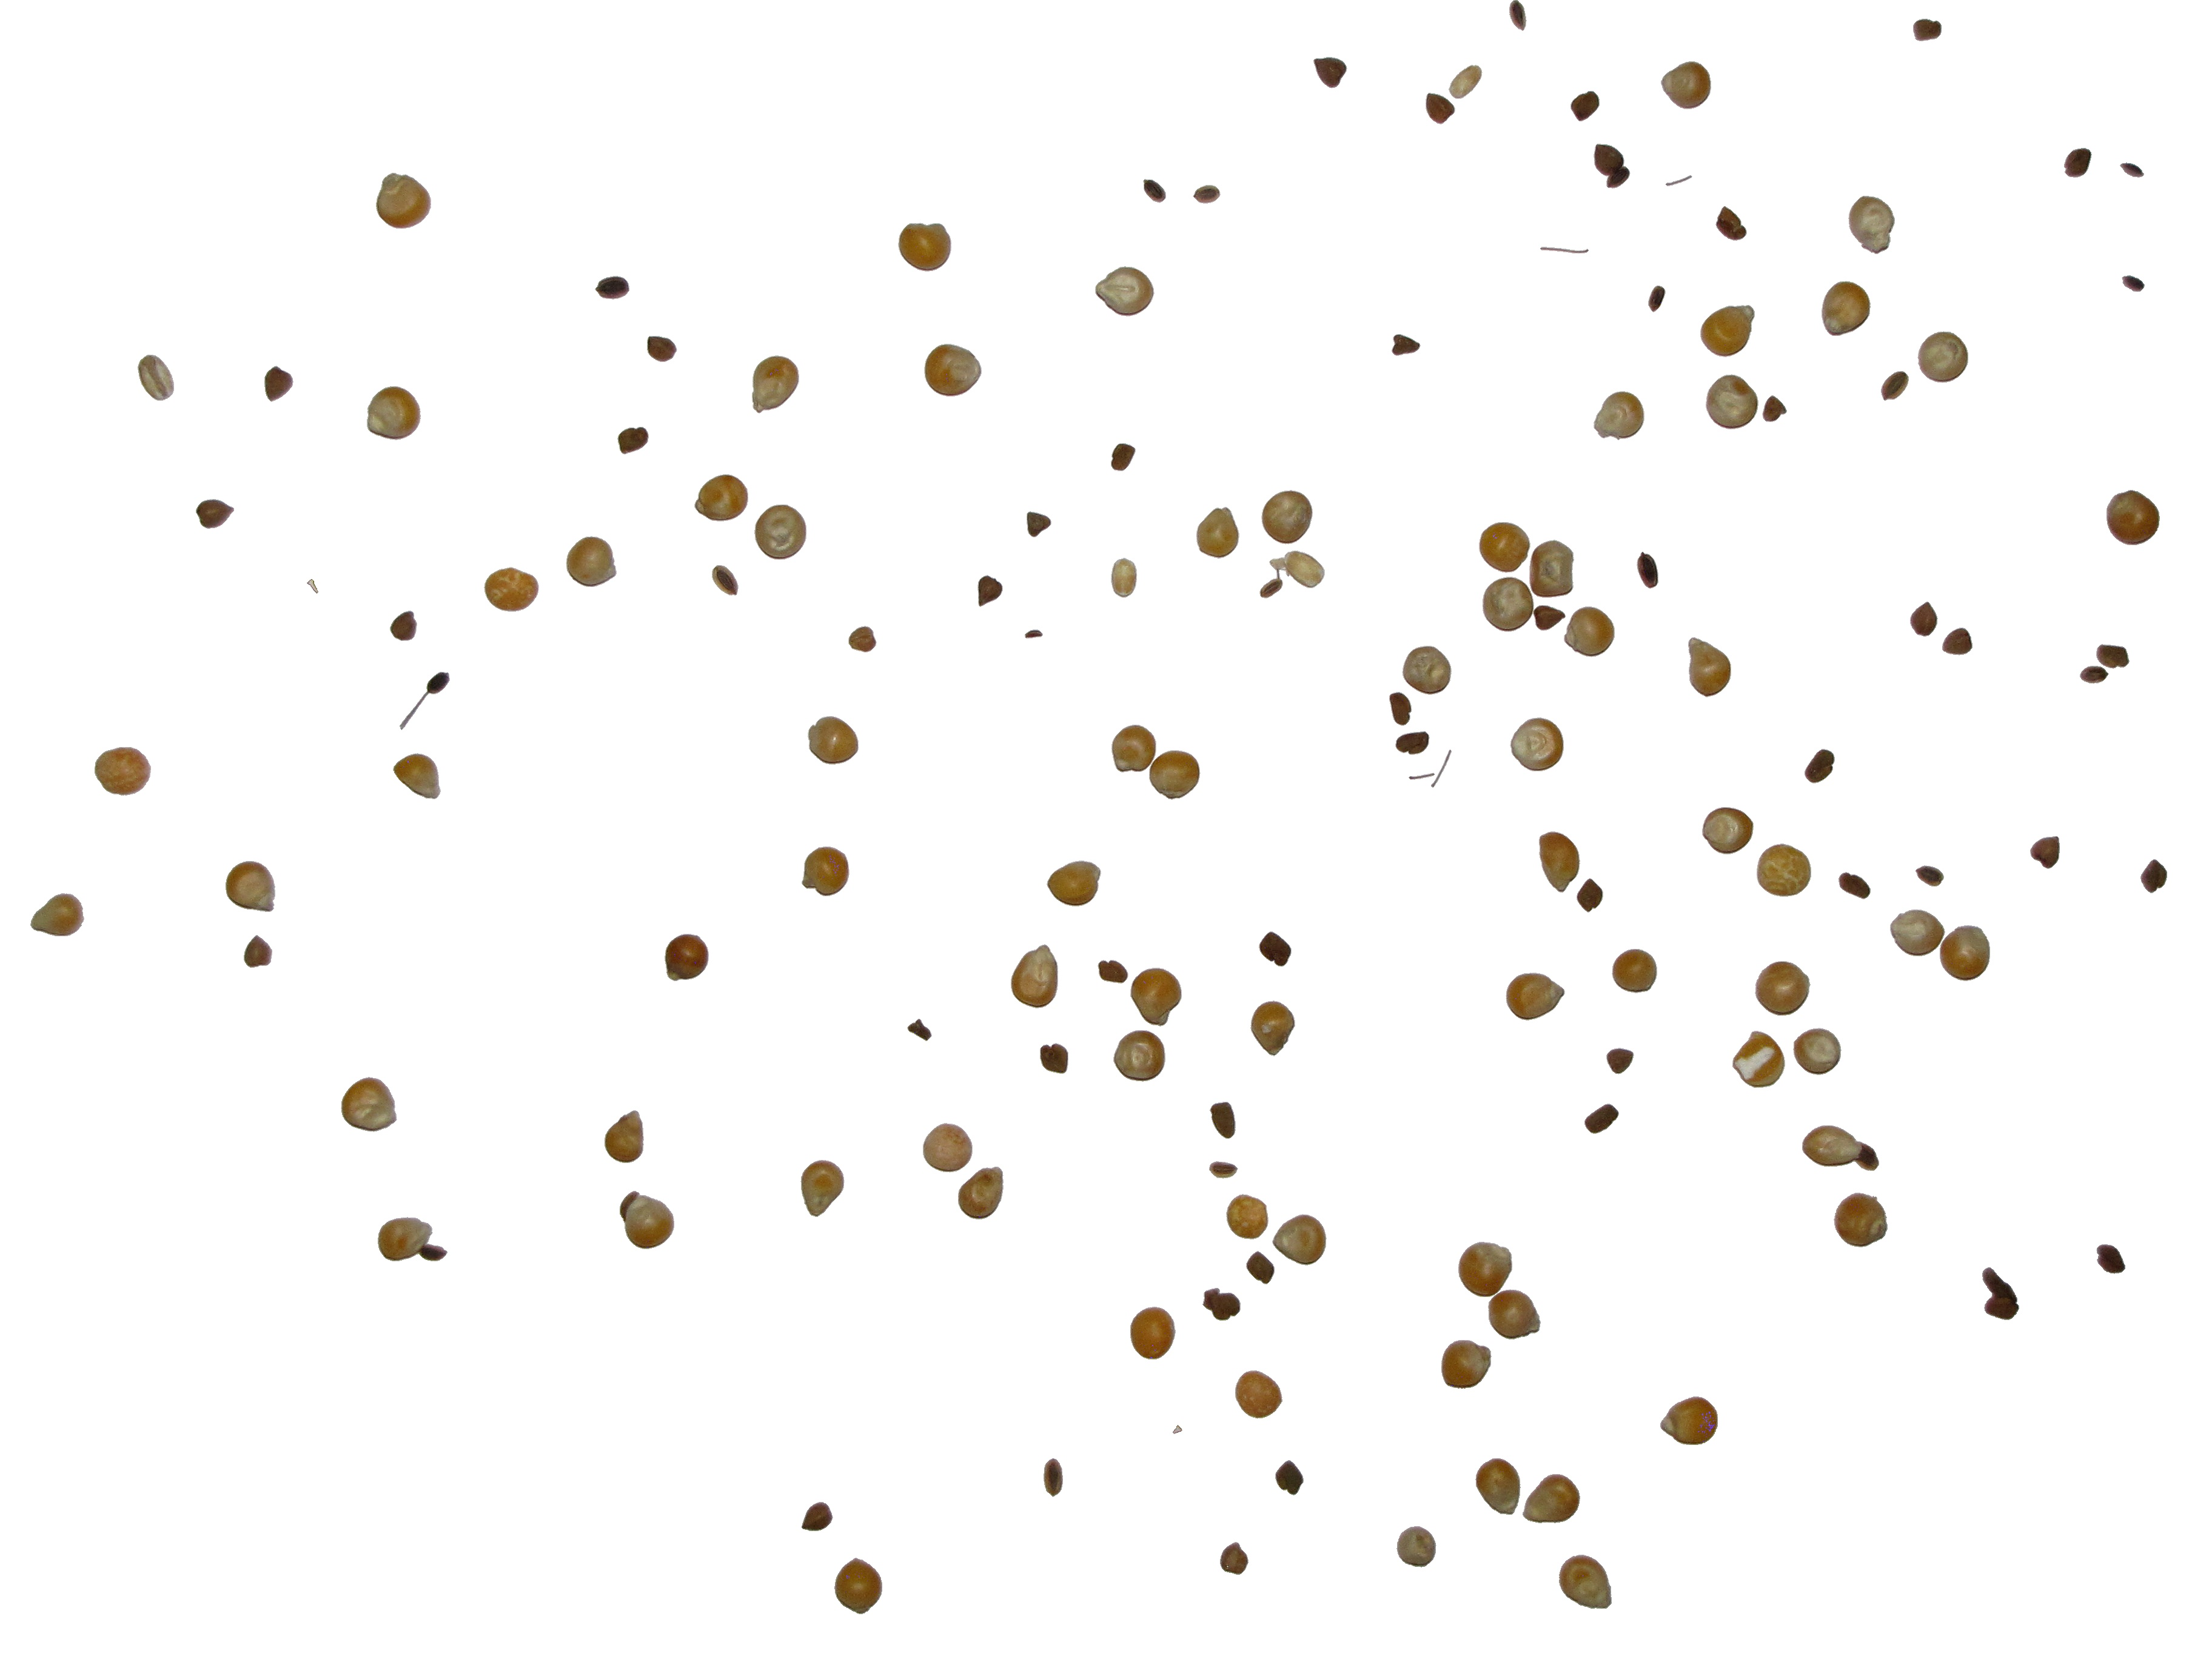buckwheat: (1984, 1269, 2020, 1319), (1204, 1288, 1240, 1319), (1716, 207, 1747, 240), (1259, 932, 1291, 965), (1595, 145, 1629, 176), (197, 498, 233, 526), (1804, 749, 1834, 782), (1313, 58, 1346, 87), (1275, 1460, 1303, 1495), (265, 366, 293, 401), (1585, 1105, 1618, 1133), (244, 936, 272, 967), (2031, 836, 2059, 868), (2141, 859, 2167, 892), (1247, 1251, 1273, 1284), (1211, 1103, 1235, 1138), (1881, 371, 1909, 401), (2097, 1244, 2125, 1274), (2064, 148, 2092, 178), (1942, 627, 1972, 655), (620, 427, 650, 455), (1426, 94, 1454, 124), (803, 1502, 833, 1530), (1040, 1044, 1068, 1073), (1839, 873, 1871, 899), (1221, 1542, 1247, 1574), (1533, 606, 1566, 631), (1578, 878, 1602, 911), (1395, 732, 1430, 755), (1571, 92, 1599, 120), (1637, 552, 1658, 589), (1043, 1459, 1062, 1497), (712, 566, 738, 594), (848, 626, 876, 652), (390, 612, 416, 640), (648, 336, 678, 361), (1097, 960, 1129, 983), (979, 575, 1001, 606), (2097, 645, 2128, 667), (1390, 692, 1411, 725), (1914, 603, 1937, 633), (1763, 396, 1787, 422), (1111, 444, 1136, 471), (1608, 1049, 1634, 1073), (1392, 335, 1420, 356), (1028, 512, 1050, 537), (1914, 19, 1940, 40), (1919, 866, 1947, 885), (907, 1019, 932, 1040), (1193, 185, 1219, 204), (596, 277, 627, 293), (2080, 666, 2107, 683), (427, 673, 449, 694), (1144, 179, 1165, 202), (1510, 0, 1526, 30), (1211, 1162, 1238, 1178), (1649, 286, 1665, 312), (2121, 275, 2144, 291), (2120, 164, 2144, 178)
dill: (401, 692, 428, 730), (1432, 749, 1451, 788), (1541, 247, 1588, 253), (1667, 176, 1691, 185), (1409, 774, 1433, 779), (1026, 631, 1042, 638), (1174, 1432, 1183, 1434)
mais: (620, 1192, 674, 1248), (341, 1077, 397, 1131), (376, 174, 430, 228), (1733, 1032, 1785, 1087), (1130, 969, 1181, 1026), (1096, 267, 1155, 315), (1012, 945, 1057, 1007), (1559, 1554, 1611, 1608), (754, 505, 806, 559), (2107, 490, 2160, 544), (1756, 962, 1810, 1014), (1757, 843, 1811, 896), (1460, 1243, 1512, 1297), (925, 345, 981, 396), (1702, 305, 1754, 357), (1510, 718, 1562, 770), (1834, 1194, 1886, 1246), (368, 387, 420, 439), (1261, 490, 1312, 544), (1707, 375, 1757, 429), (1482, 577, 1533, 631), (1524, 1474, 1580, 1523), (1940, 925, 1989, 981), (1507, 972, 1564, 1019), (1273, 1215, 1325, 1265), (1822, 281, 1871, 335), (834, 1558, 881, 1614), (1848, 197, 1895, 253), (1662, 1398, 1717, 1445), (752, 356, 798, 413), (1803, 1126, 1862, 1169), (1564, 606, 1615, 657), (1918, 331, 1968, 382), (899, 223, 951, 272), (96, 748, 150, 795), (1475, 1459, 1521, 1514), (1529, 540, 1573, 598), (1689, 638, 1731, 697), (1150, 751, 1200, 800), (566, 537, 617, 586), (1479, 523, 1529, 572), (226, 861, 275, 911), (1489, 1290, 1540, 1338), (1115, 1032, 1165, 1080), (695, 474, 747, 521), (1047, 861, 1101, 906), (1890, 910, 1944, 955), (1540, 831, 1580, 892), (1251, 1000, 1294, 1056), (801, 1161, 845, 1216), (923, 1124, 972, 1173), (1594, 392, 1644, 439), (808, 716, 859, 763), (1130, 1307, 1176, 1359), (484, 568, 538, 612), (1662, 61, 1710, 108), (1402, 647, 1451, 694), (1703, 807, 1752, 854), (1442, 1340, 1491, 1387), (958, 1168, 1003, 1218), (1794, 1028, 1841, 1075), (803, 847, 848, 896), (31, 894, 84, 936), (1237, 1371, 1282, 1419), (1111, 725, 1157, 772), (1197, 507, 1238, 558), (394, 755, 441, 798), (665, 934, 709, 981), (604, 1110, 643, 1162), (1613, 950, 1656, 993), (1226, 1194, 1268, 1239), (378, 1218, 427, 1256), (1397, 1527, 1435, 1567)
other: (138, 356, 174, 401), (1285, 551, 1324, 582), (1111, 558, 1137, 598), (1449, 66, 1482, 98)
